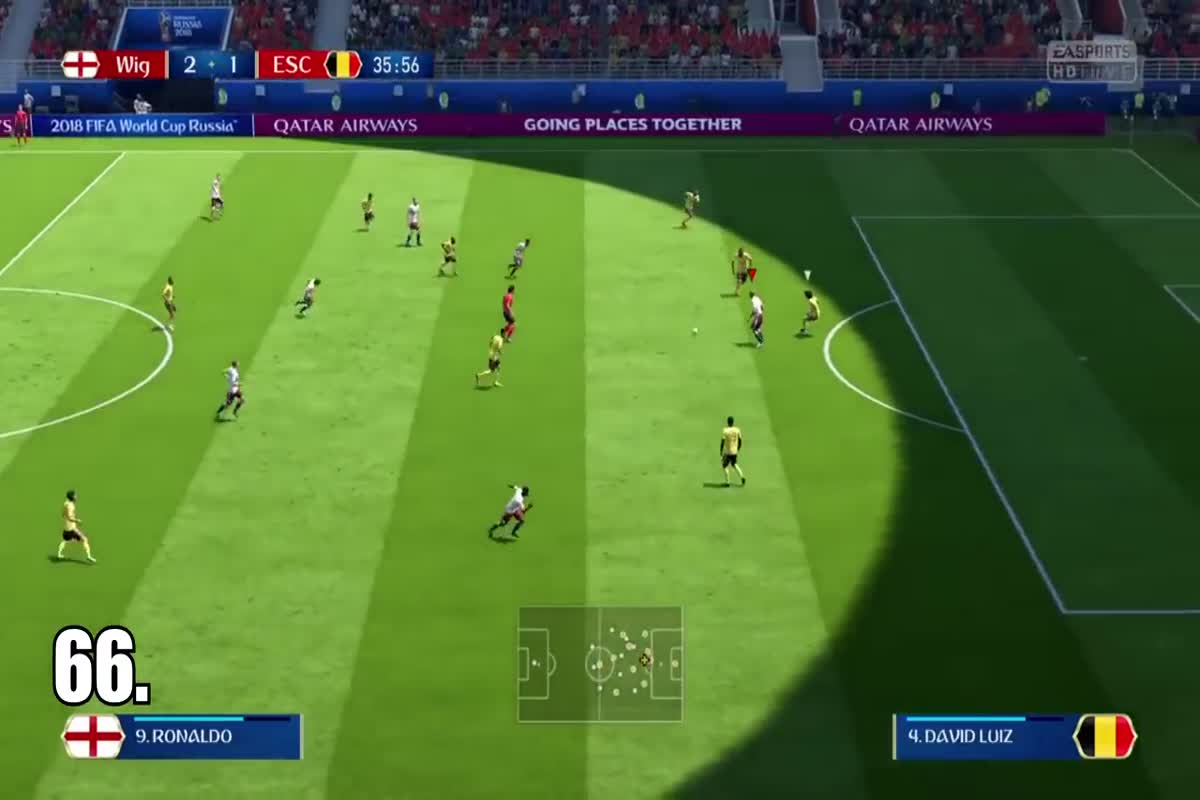ball: (687, 321, 706, 341)
